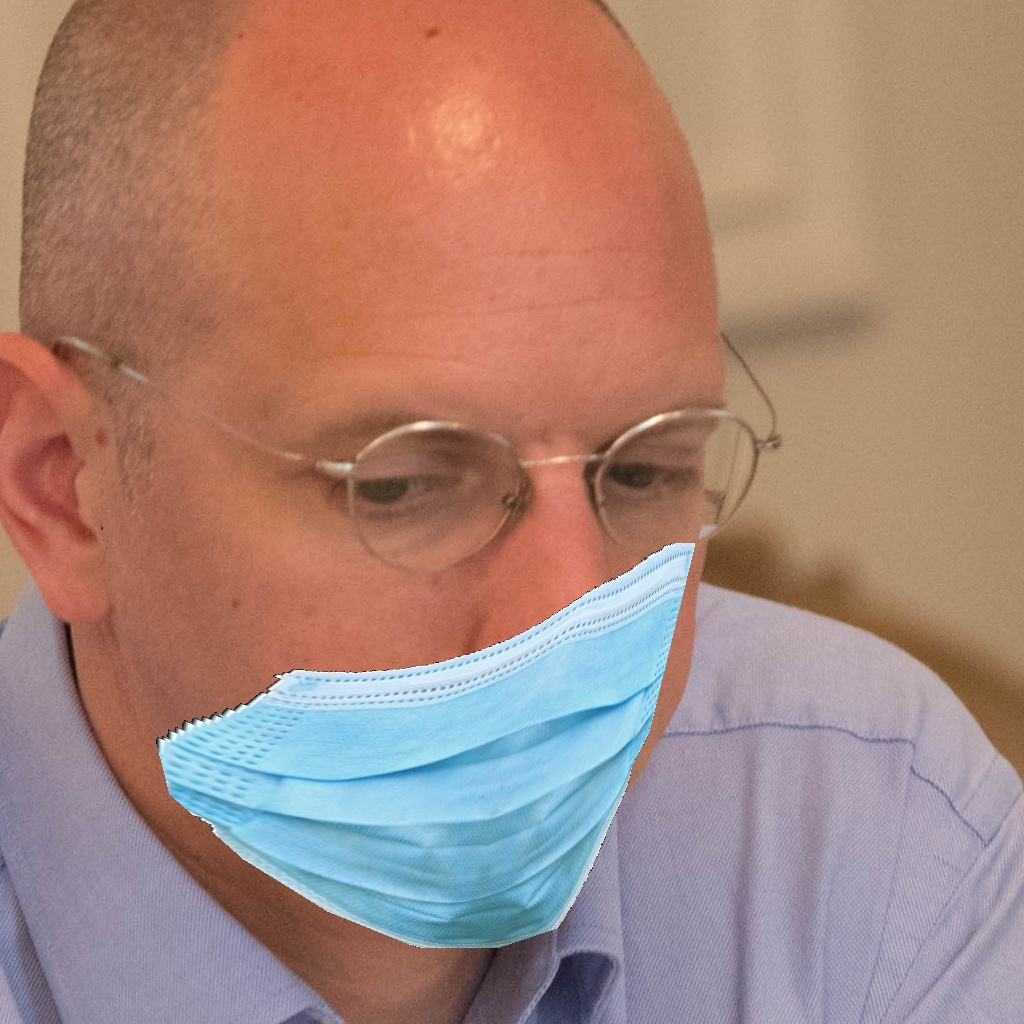Mask: (153, 289, 704, 979)
